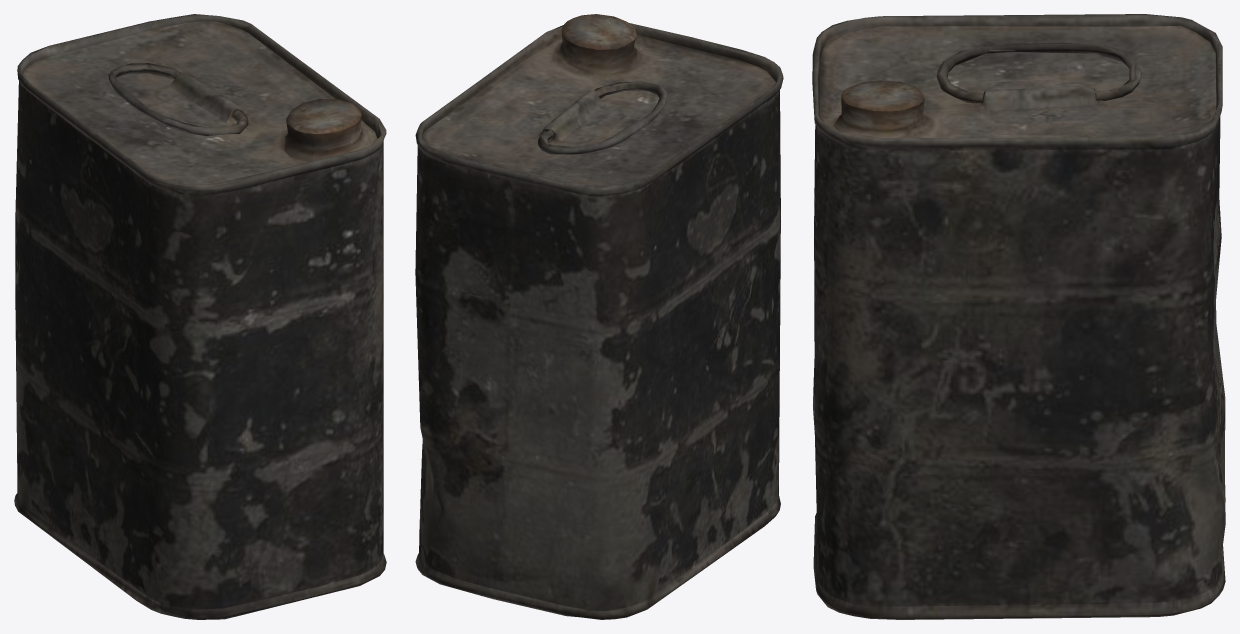
Rendered from oil_tin.glb.
3 renders of one model, left to right at view 1: azimuth 30°, elevation 25°; view 2: azimuth 150°, elevation 25°; view 3: azimuth 270°, elevation 25°, orthographic. The views are drawn at different scales.
Visible parts, largest first — view 1: oil_tin, oil_tin_handle; view 2: oil_tin, oil_tin_handle; view 3: oil_tin, oil_tin_handle.
Boxes of the visible parts, bbox=[...] form: oil_tin: bbox=[14, 14, 386, 619]; oil_tin_handle: bbox=[108, 63, 248, 135]; oil_tin: bbox=[415, 14, 783, 619]; oil_tin_handle: bbox=[537, 81, 666, 154]; oil_tin: bbox=[812, 14, 1225, 619]; oil_tin_handle: bbox=[936, 43, 1141, 103].
Size of the model in its own units: 0.1144 by 0.2052 by 0.1535.
1 material, 1 textured.
